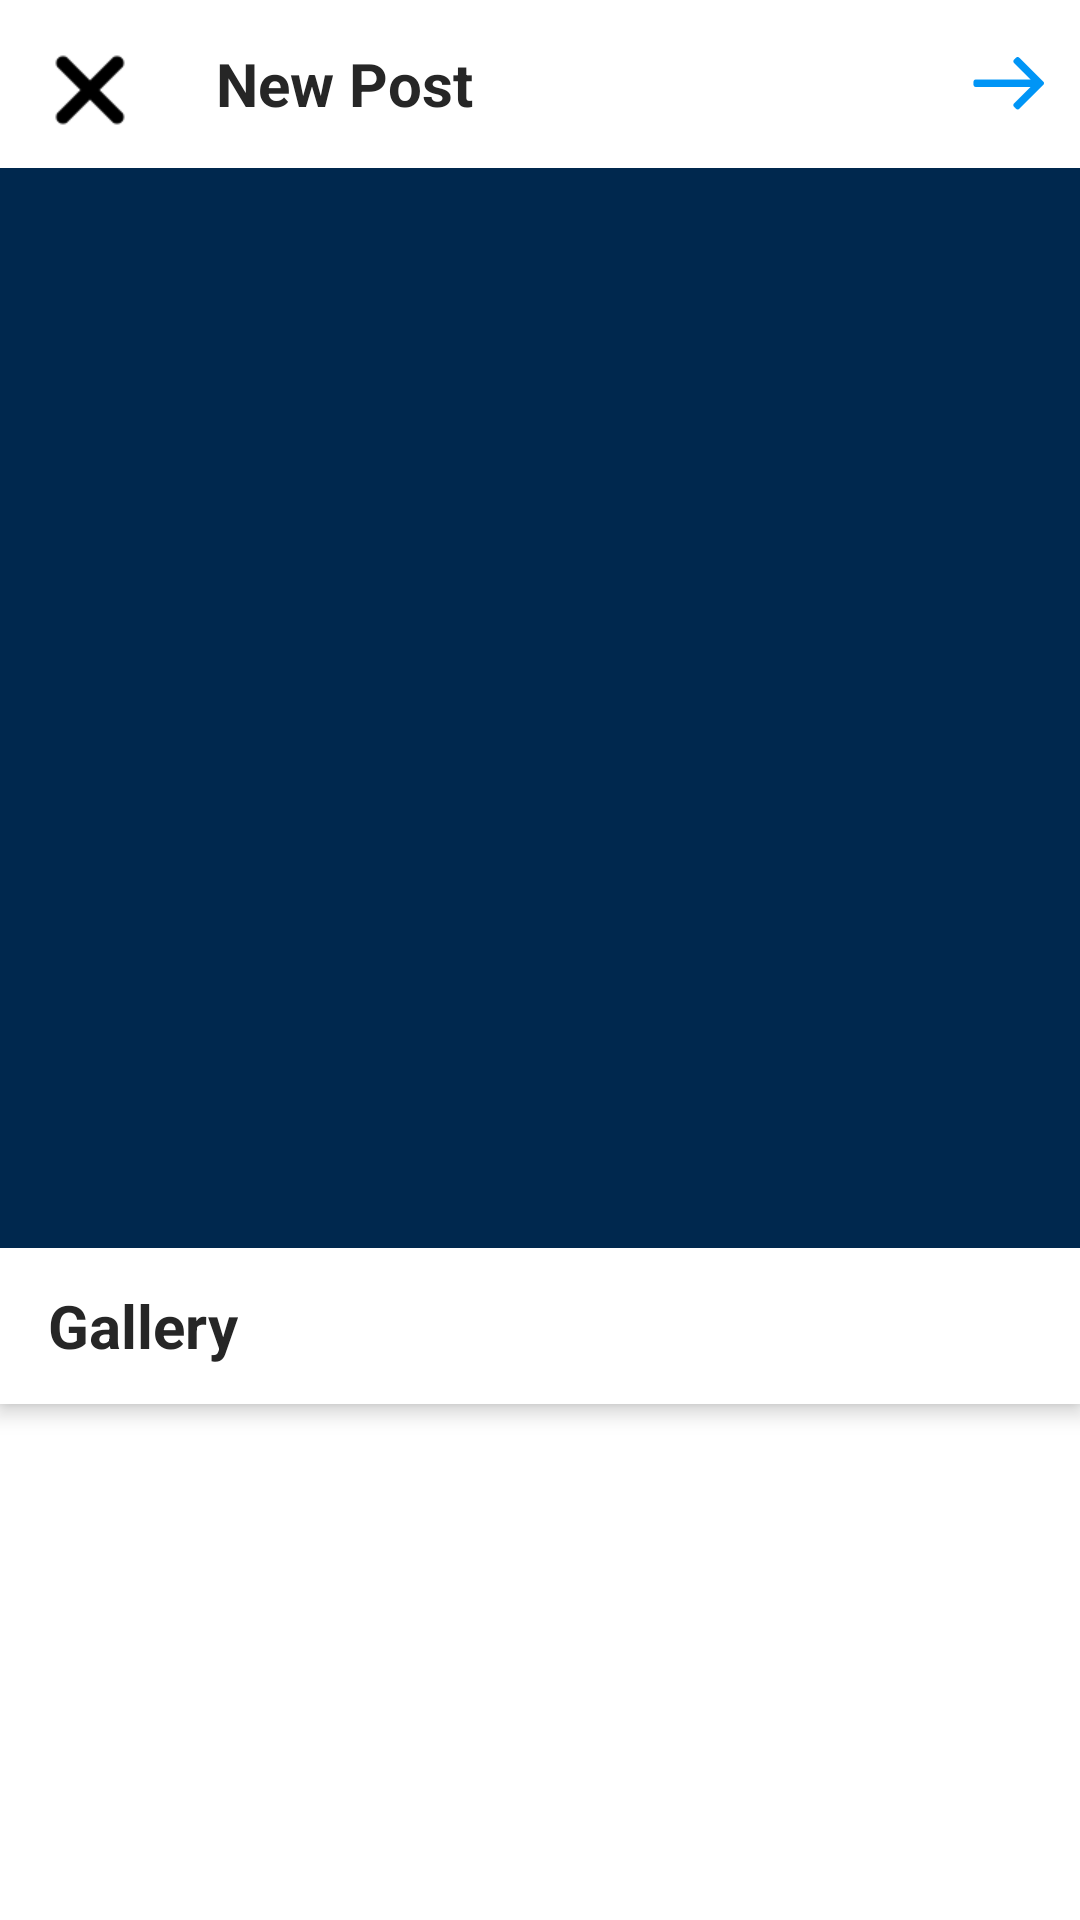

Named icons in this screenshot (1080×1920) and their centers, (x,y):
arrow next: (1008,83)
cancel: (90,90)
